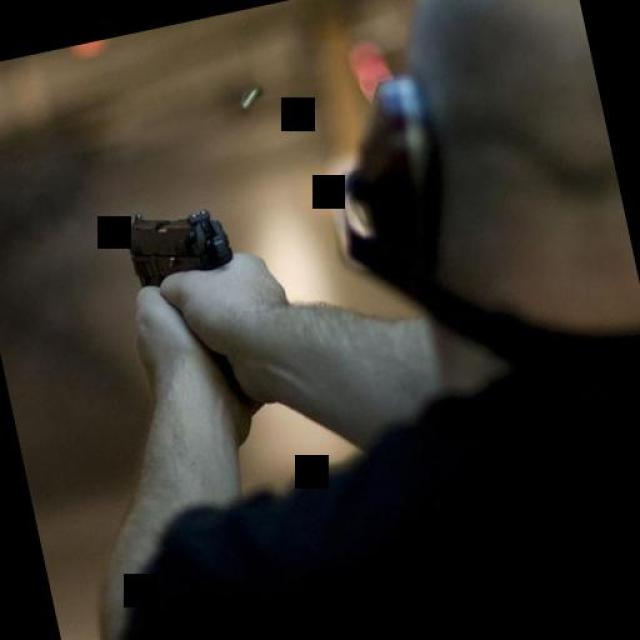gun: (116, 192, 258, 422)
